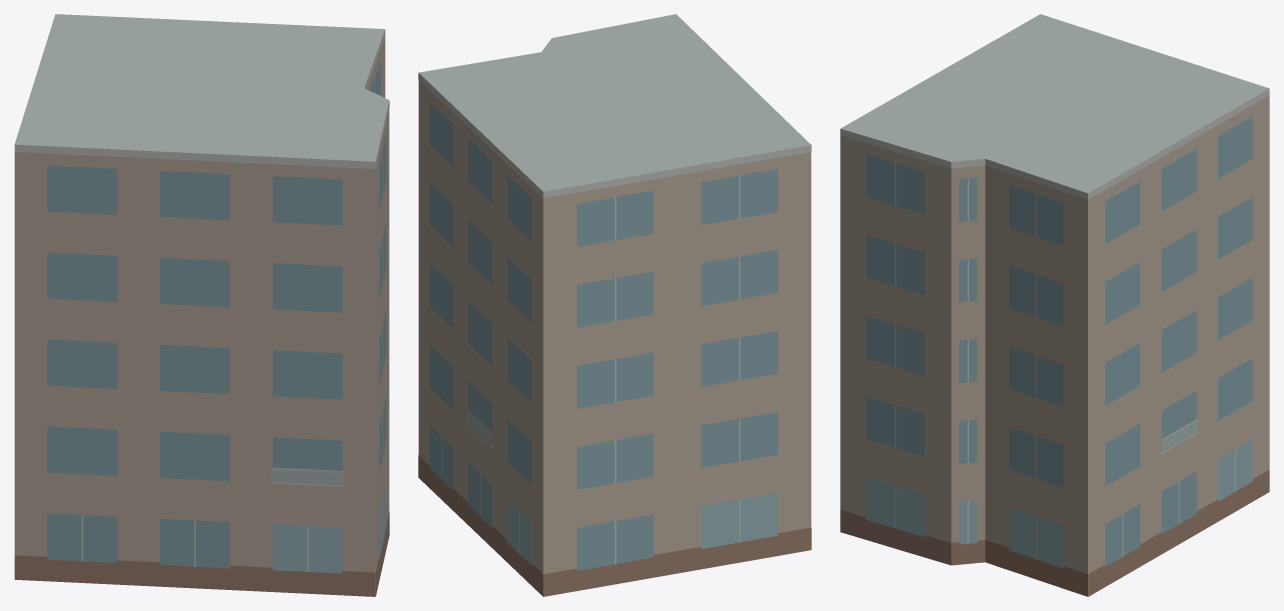
The model's file is survey-upis-32986674.glb.
3 renders of one model, left to right at view 1: azimuth 30°, elevation 25°; view 2: azimuth 150°, elevation 25°; view 3: azimuth 270°, elevation 25°, orthographic. The views are drawn at different scales.
Visible parts, largest first — view 1: survey-upis-32986674.tmp; view 2: survey-upis-32986674.tmp; view 3: survey-upis-32986674.tmp.
Boxes of the visible parts, x1=… form: survey-upis-32986674.tmp: x1=14, y1=14, x2=389, y2=596; survey-upis-32986674.tmp: x1=418, y1=14, x2=811, y2=596; survey-upis-32986674.tmp: x1=840, y1=14, x2=1269, y2=596.
Size of the model in its own units: 13.84 by 14.5 by 13.99.
